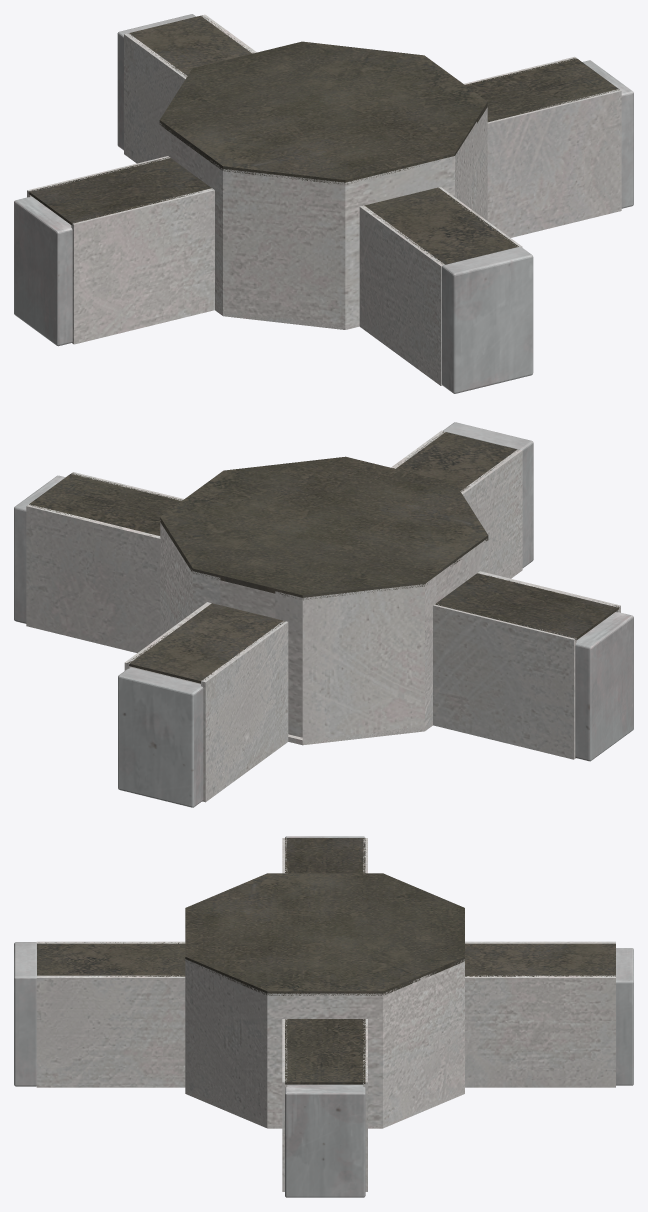
Rendered from HUB_OPACO.fbx.
3 renders of one model, top to bottom at view 1: azimuth 30°, elevation 25°; view 2: azimuth 150°, elevation 25°; view 3: azimuth 270°, elevation 25°, orthographic. The views are drawn at different scales.
Visible parts, largest first — view 1: Hub_Techo_Octagonal, Hub_Paredes_Anillo, Pasillo_W_Suelo, Pasillo_E_Suelo, Pasillo_S_Pared_L, Hub_MarcoEscotilla_S, Pasillo_N_Pared_R, Hub_MarcoEscotilla_W, Hub_MarcoEscotilla_E, Hub_MarcoEscotilla_N, Hub_Suelo_Octagonal; view 2: Hub_Techo_Octagonal, Hub_Paredes_Anillo, Pasillo_W_Suelo, Pasillo_E_Suelo, Pasillo_N_Pared_R, Hub_MarcoEscotilla_N, Pasillo_S_Pared_L, Hub_MarcoEscotilla_W, Hub_MarcoEscotilla_S, Hub_MarcoEscotilla_E, Hub_Suelo_Octagonal; view 3: Hub_Techo_Octagonal, Hub_Paredes_Anillo, Pasillo_N_Pared_R, Pasillo_S_Pared_L, Hub_MarcoEscotilla_E, Pasillo_E_Suelo, Hub_MarcoEscotilla_S, Pasillo_W_Suelo, Hub_MarcoEscotilla_N, Hub_Suelo_Octagonal.
Part boxes in pixels (x1,y1,x2,y2): Hub_Techo_Octagonal: [159, 41, 487, 184]; Hub_Paredes_Anillo: [159, 107, 487, 327]; Pasillo_W_Suelo: [27, 156, 214, 344]; Pasillo_E_Suelo: [464, 56, 621, 237]; Pasillo_S_Pared_L: [359, 187, 522, 385]; Hub_MarcoEscotilla_S: [441, 246, 533, 393]; Pasillo_N_Pared_R: [124, 14, 256, 163]; Hub_MarcoEscotilla_W: [14, 196, 72, 346]; Hub_MarcoEscotilla_E: [582, 60, 633, 208]; Hub_MarcoEscotilla_N: [117, 14, 195, 150]; Hub_Suelo_Octagonal: [215, 306, 359, 329]; Hub_Techo_Octagonal: [160, 456, 488, 600]; Hub_Paredes_Anillo: [160, 520, 488, 742]; Pasillo_W_Suelo: [433, 571, 620, 759]; Pasillo_E_Suelo: [26, 472, 183, 652]; Pasillo_N_Pared_R: [124, 602, 288, 802]; Hub_MarcoEscotilla_N: [118, 667, 203, 807]; Pasillo_S_Pared_L: [391, 430, 522, 578]; Hub_MarcoEscotilla_W: [575, 612, 633, 761]; Hub_MarcoEscotilla_S: [443, 422, 533, 567]; Hub_MarcoEscotilla_E: [14, 475, 65, 623]; Hub_Suelo_Octagonal: [288, 721, 432, 745]; Hub_Techo_Octagonal: [185, 873, 464, 995]; Hub_Paredes_Anillo: [185, 959, 464, 1126]; Pasillo_N_Pared_R: [465, 941, 615, 1087]; Pasillo_S_Pared_L: [36, 941, 185, 1087]; Hub_MarcoEscotilla_E: [285, 1084, 365, 1197]; Pasillo_E_Suelo: [282, 1019, 367, 1191]; Hub_MarcoEscotilla_S: [14, 942, 36, 1086]; Pasillo_W_Suelo: [282, 838, 367, 873]; Hub_MarcoEscotilla_N: [616, 948, 633, 1085]; Hub_Suelo_Octagonal: [185, 1090, 464, 1128].
Size of the model in its own units: 1209 by 300 by 1230.
5 materials, 5 textured.
